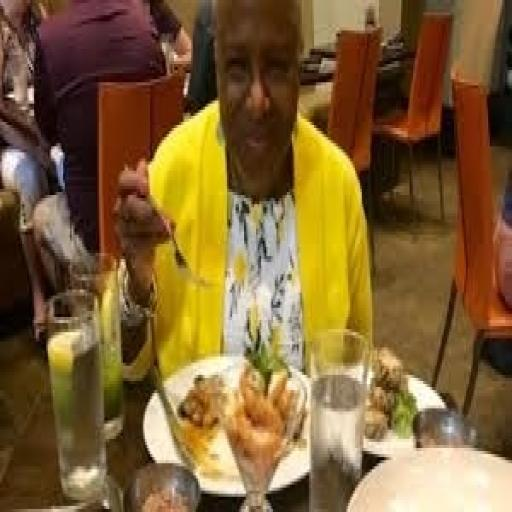eating: (111, 0, 375, 381)
